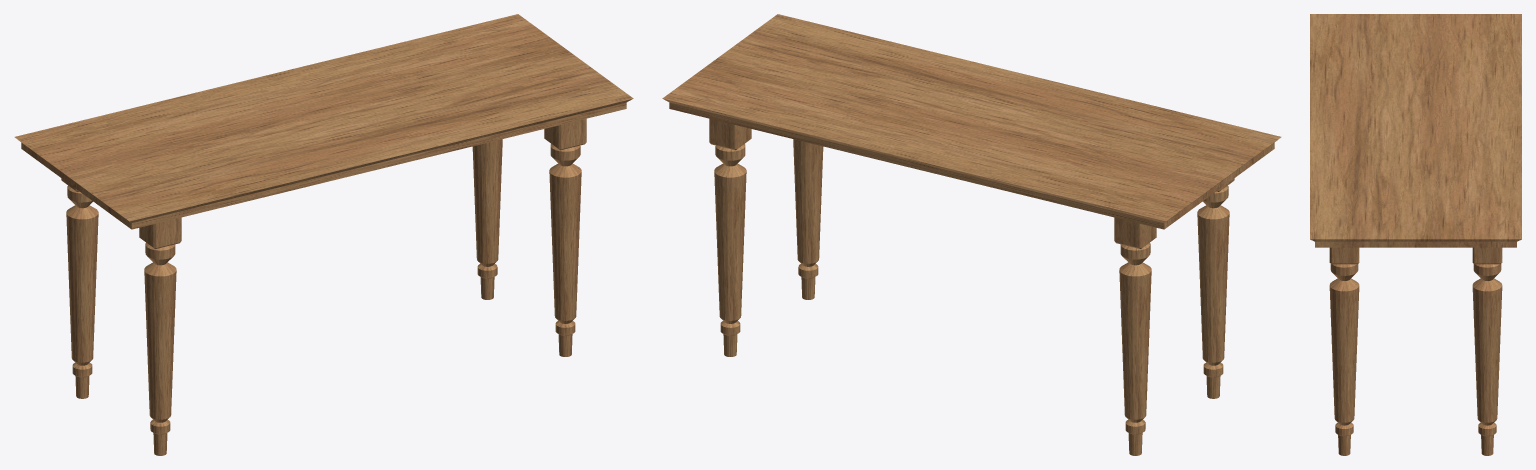
The model's file is mesalarga.fbx.
The picture shows the model from 3 angles, left to right: view 1: azimuth 30°, elevation 25°; view 2: azimuth 150°, elevation 25°; view 3: azimuth 270°, elevation 25°; orthographic projection. The views are drawn at different scales.
Parts seen in each view (by area): view 1: cima, pCylinder1 (×4), pCube6 (×2); view 2: cima, pCylinder1 (×4), pCube6 (×2); view 3: cima, pCylinder1 (×2), pCube6 (×2).
Boxes of the visible parts, x1,y1,x2,y2 form: cima: (14,14,633,229); pCylinder1 (×4): (66,139,581,455); pCube6 (×2): (139,118,586,248); cima: (662,14,1281,229); pCylinder1 (×4): (714,139,1229,455); pCube6 (×2): (709,118,1156,248); cima: (1310,14,1521,247); pCylinder1 (×2): (1329,264,1502,455); pCube6 (×2): (1329,247,1502,264).
Size of the model in its own units: 3.73 by 1.82 by 1.48.
